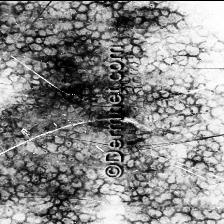Potentially Malignant Skin Tumors: (0, 0, 101, 224), (128, 0, 224, 224)
